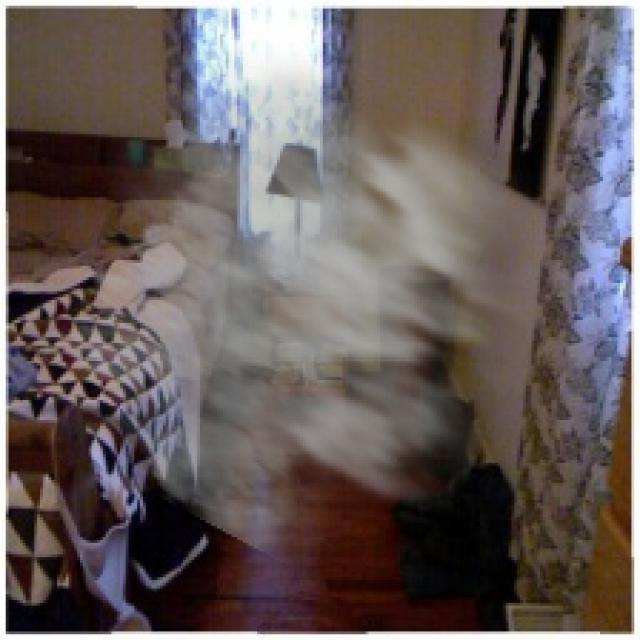smoke: (52, 40, 597, 580)
